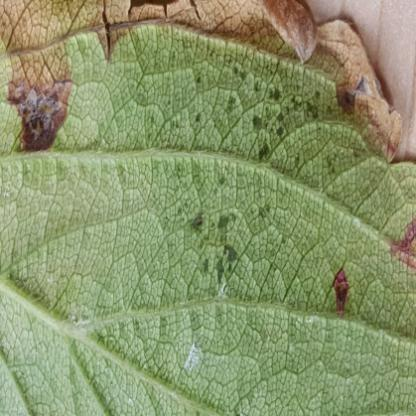Strawberry_Angular_LeafSpot: (0, 0, 415, 323)
